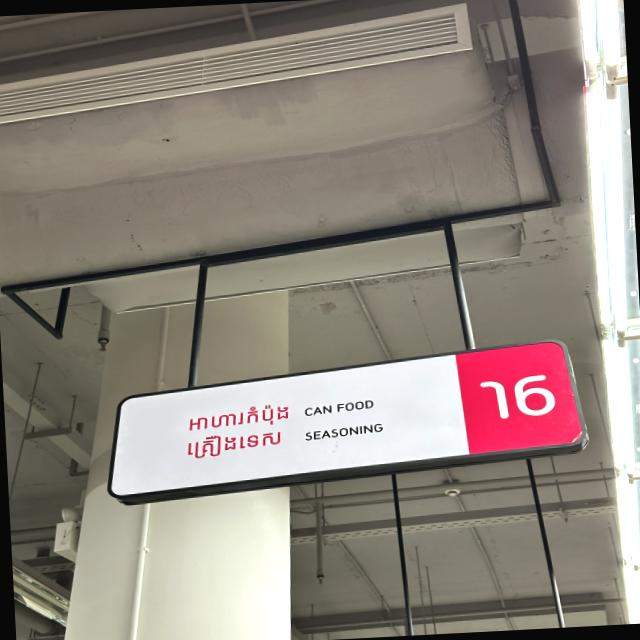598: (469, 364, 563, 429)
Yolov11kh: (177, 424, 289, 463), (184, 399, 292, 435)
